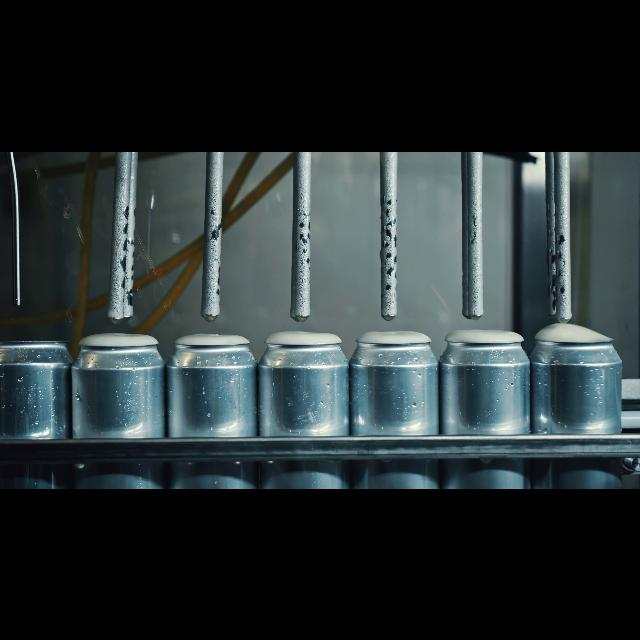empty: (3, 336, 69, 488)
full: (532, 322, 622, 488), (74, 328, 166, 488), (262, 326, 348, 488), (172, 329, 258, 488), (444, 322, 524, 488), (355, 328, 437, 488)
